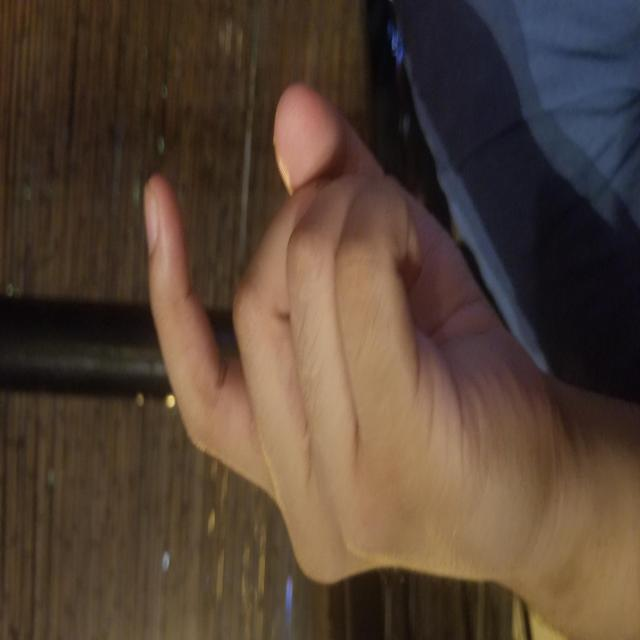X: (51, 141, 559, 535)
